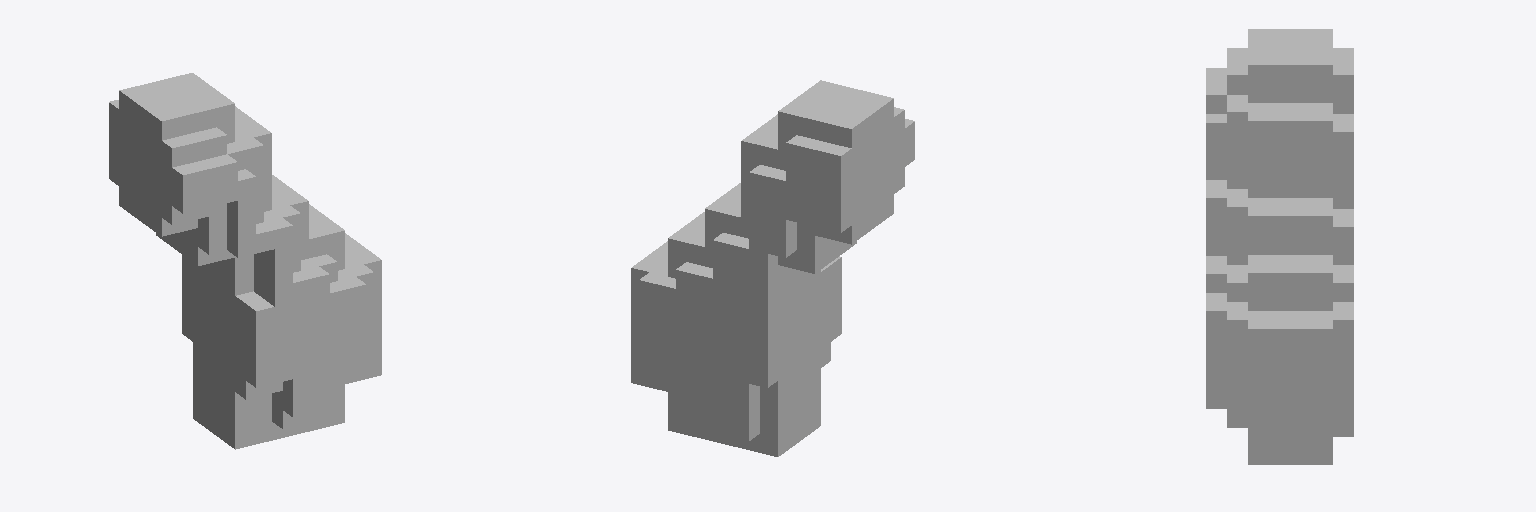
The model's file is Mole Left Arm.obj.
3 views of the same model, side by side, from view 1: azimuth 30°, elevation 25°; view 2: azimuth 150°, elevation 25°; view 3: azimuth 270°, elevation 25° (orthographic).
Visible parts, largest first — view 1: object 1; view 2: object 1; view 3: object 1.
Part boxes in pixels (x1,y1,x2,y2): object 1: (109,73,381,449); object 1: (631,80,914,456); object 1: (1206,29,1353,464).
Size of the model in its own units: 1.2 by 1.8 by 0.7.